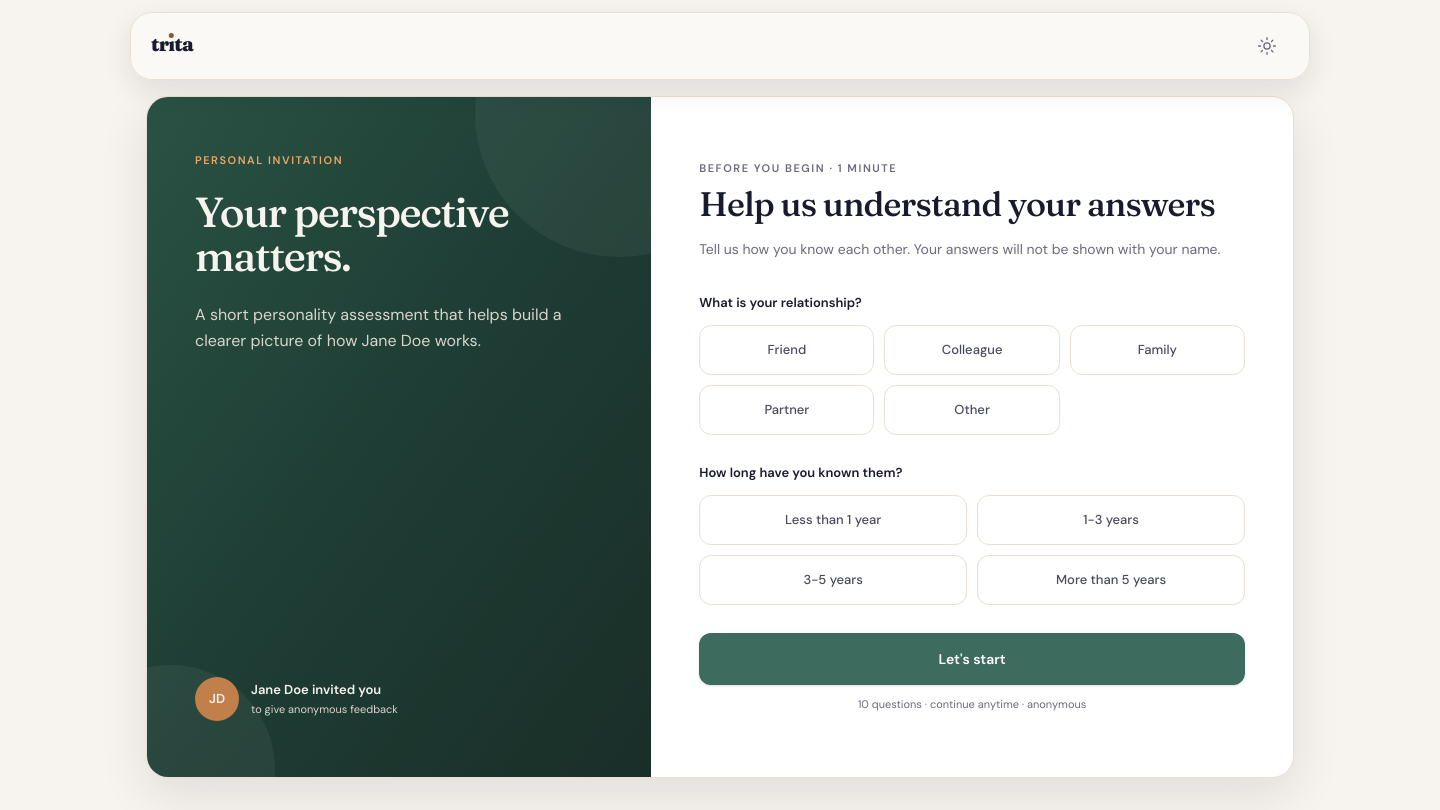
Test: C5.5 ObserverClient integration › assessment phase › auto-advance moves to next question after answering
Click the button "Friend": (787, 350) [699,325,874,375]
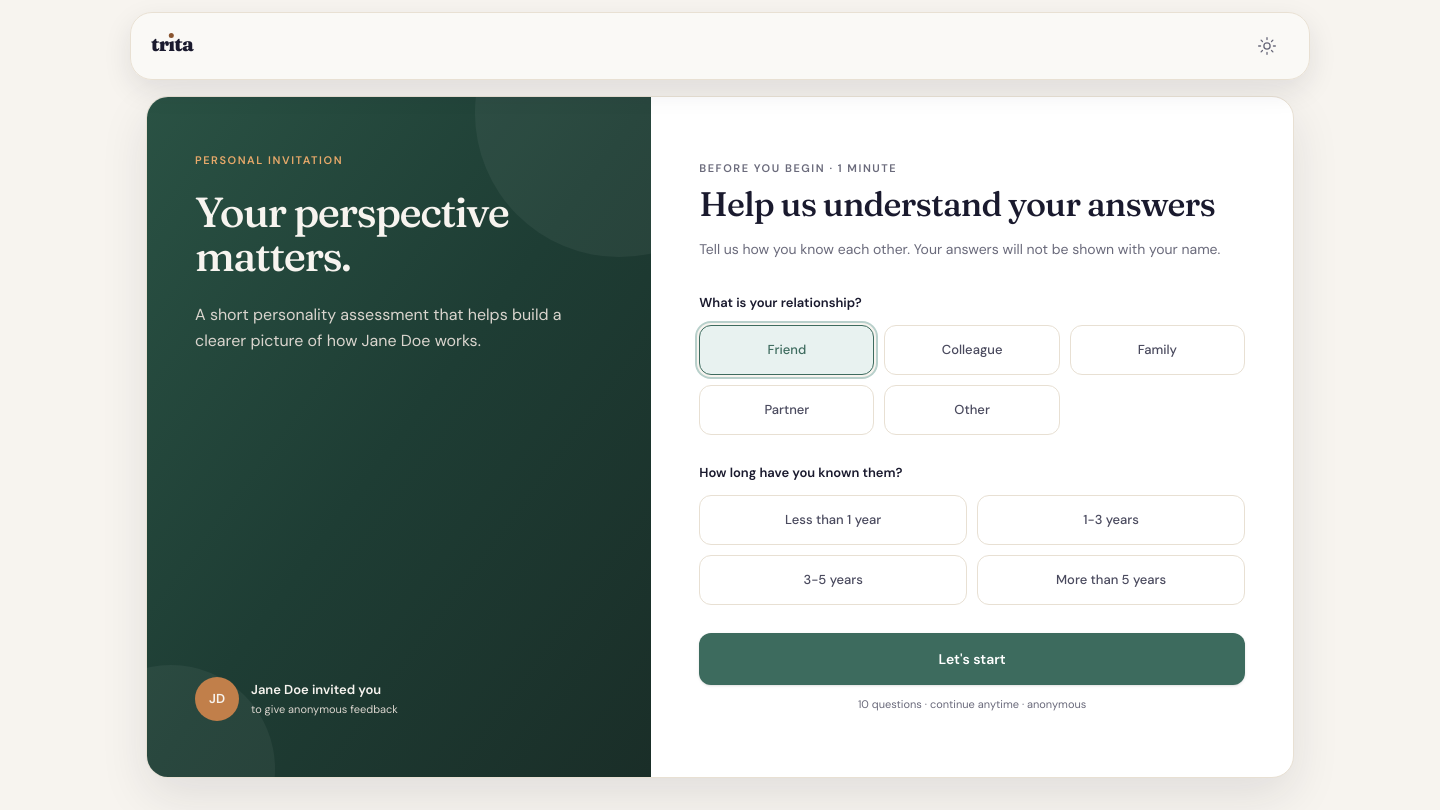
Click the button "Less than 1 year": (833, 520) [699,495,967,545]
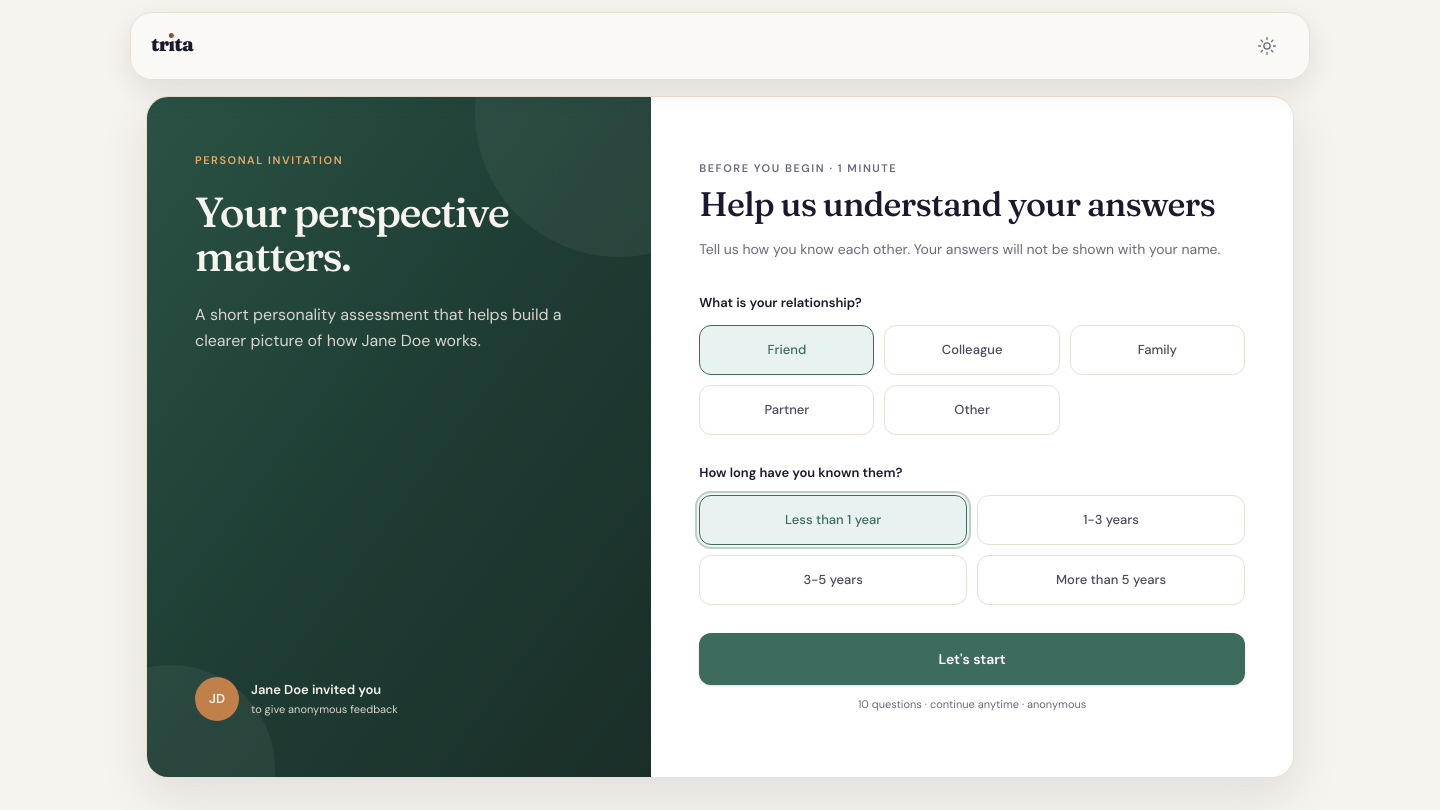
Click the button "Let's start": (972, 659) [699,633,1245,685]
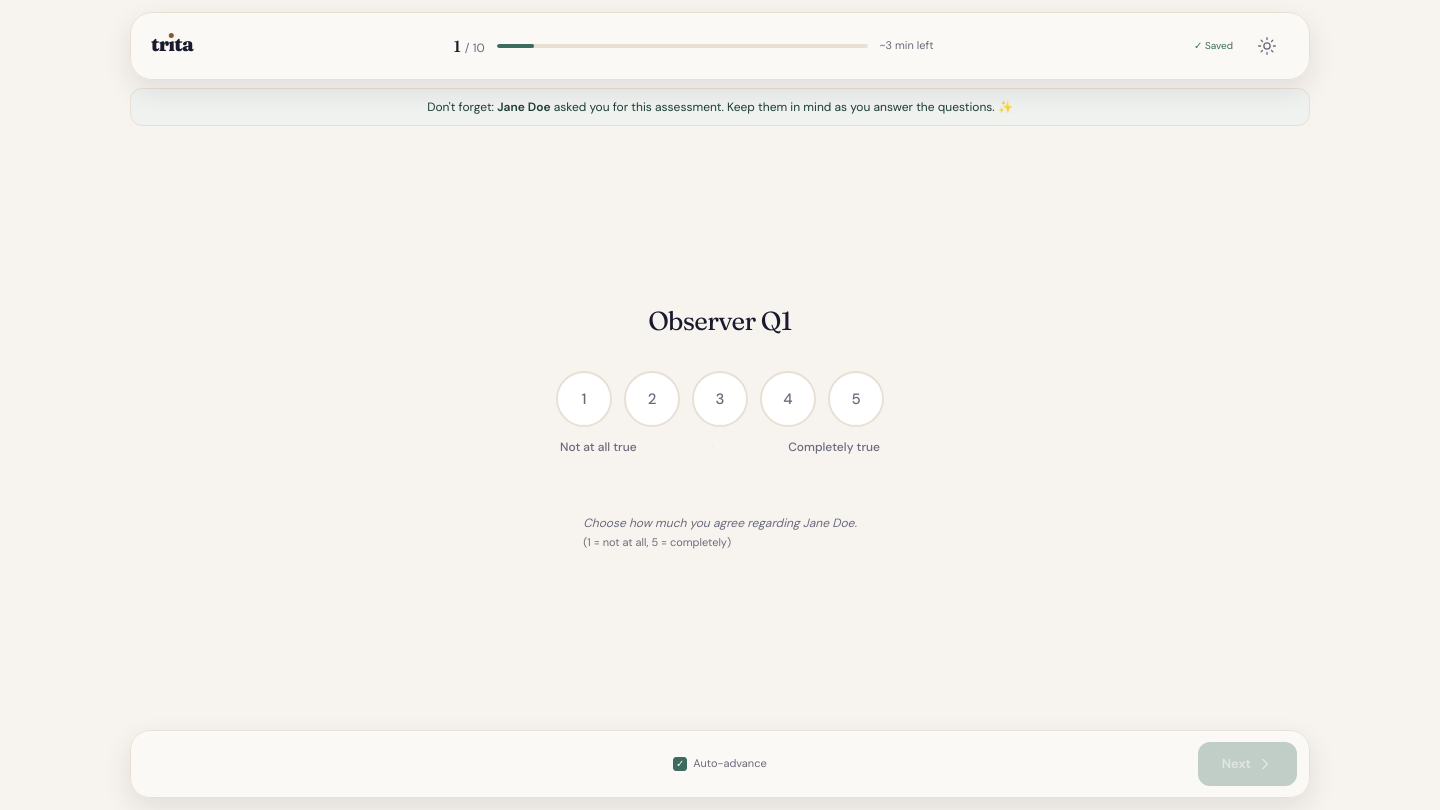
Expected: the text "Observer Q1" is shown, [648,305,792,339]
Click the radio button named "3 - ": (720, 399) [692,371,748,427]
Wait 150 ms
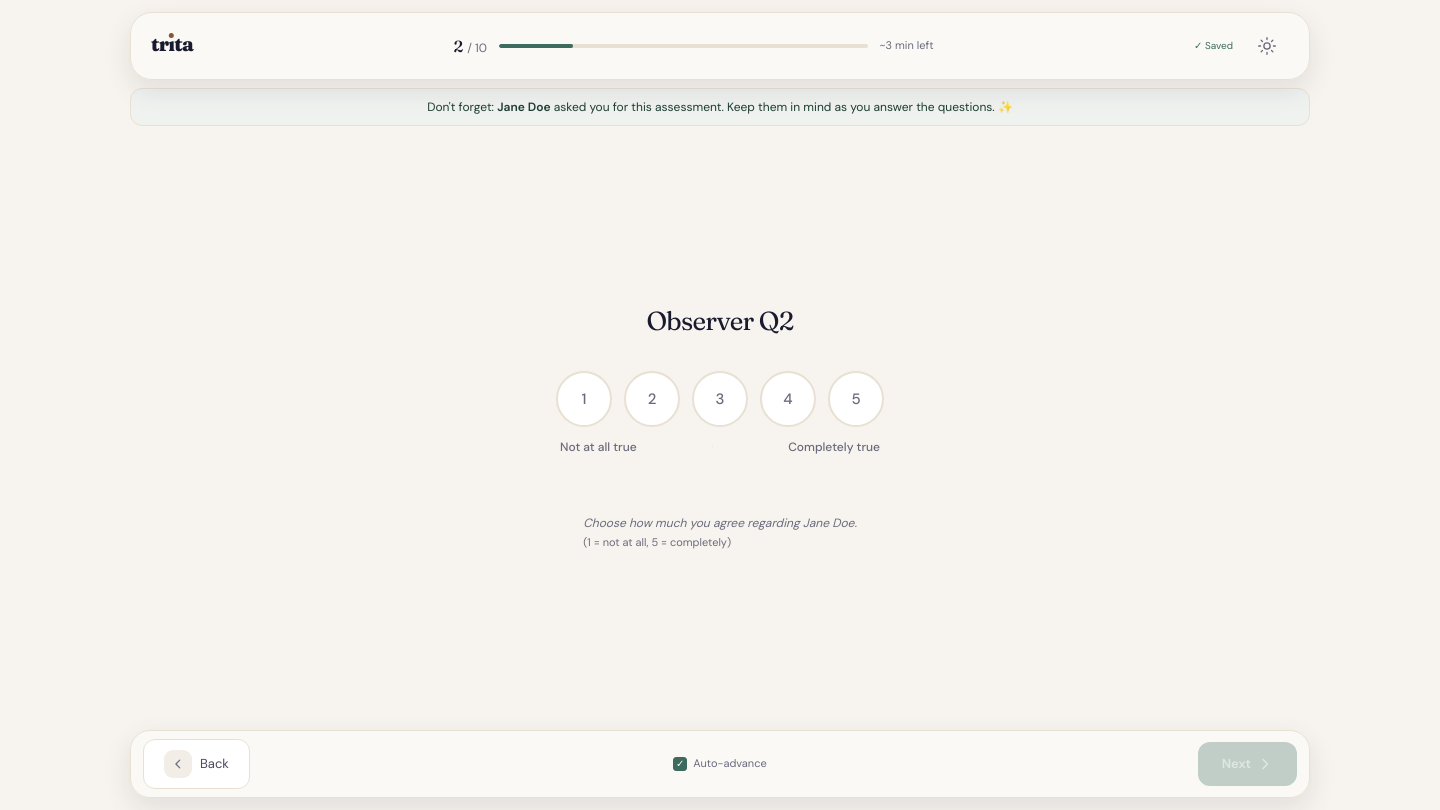
Expected: the text "Observer Q2" is shown, [646,305,794,339]
